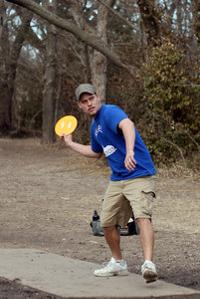person: (61, 84, 158, 285)
